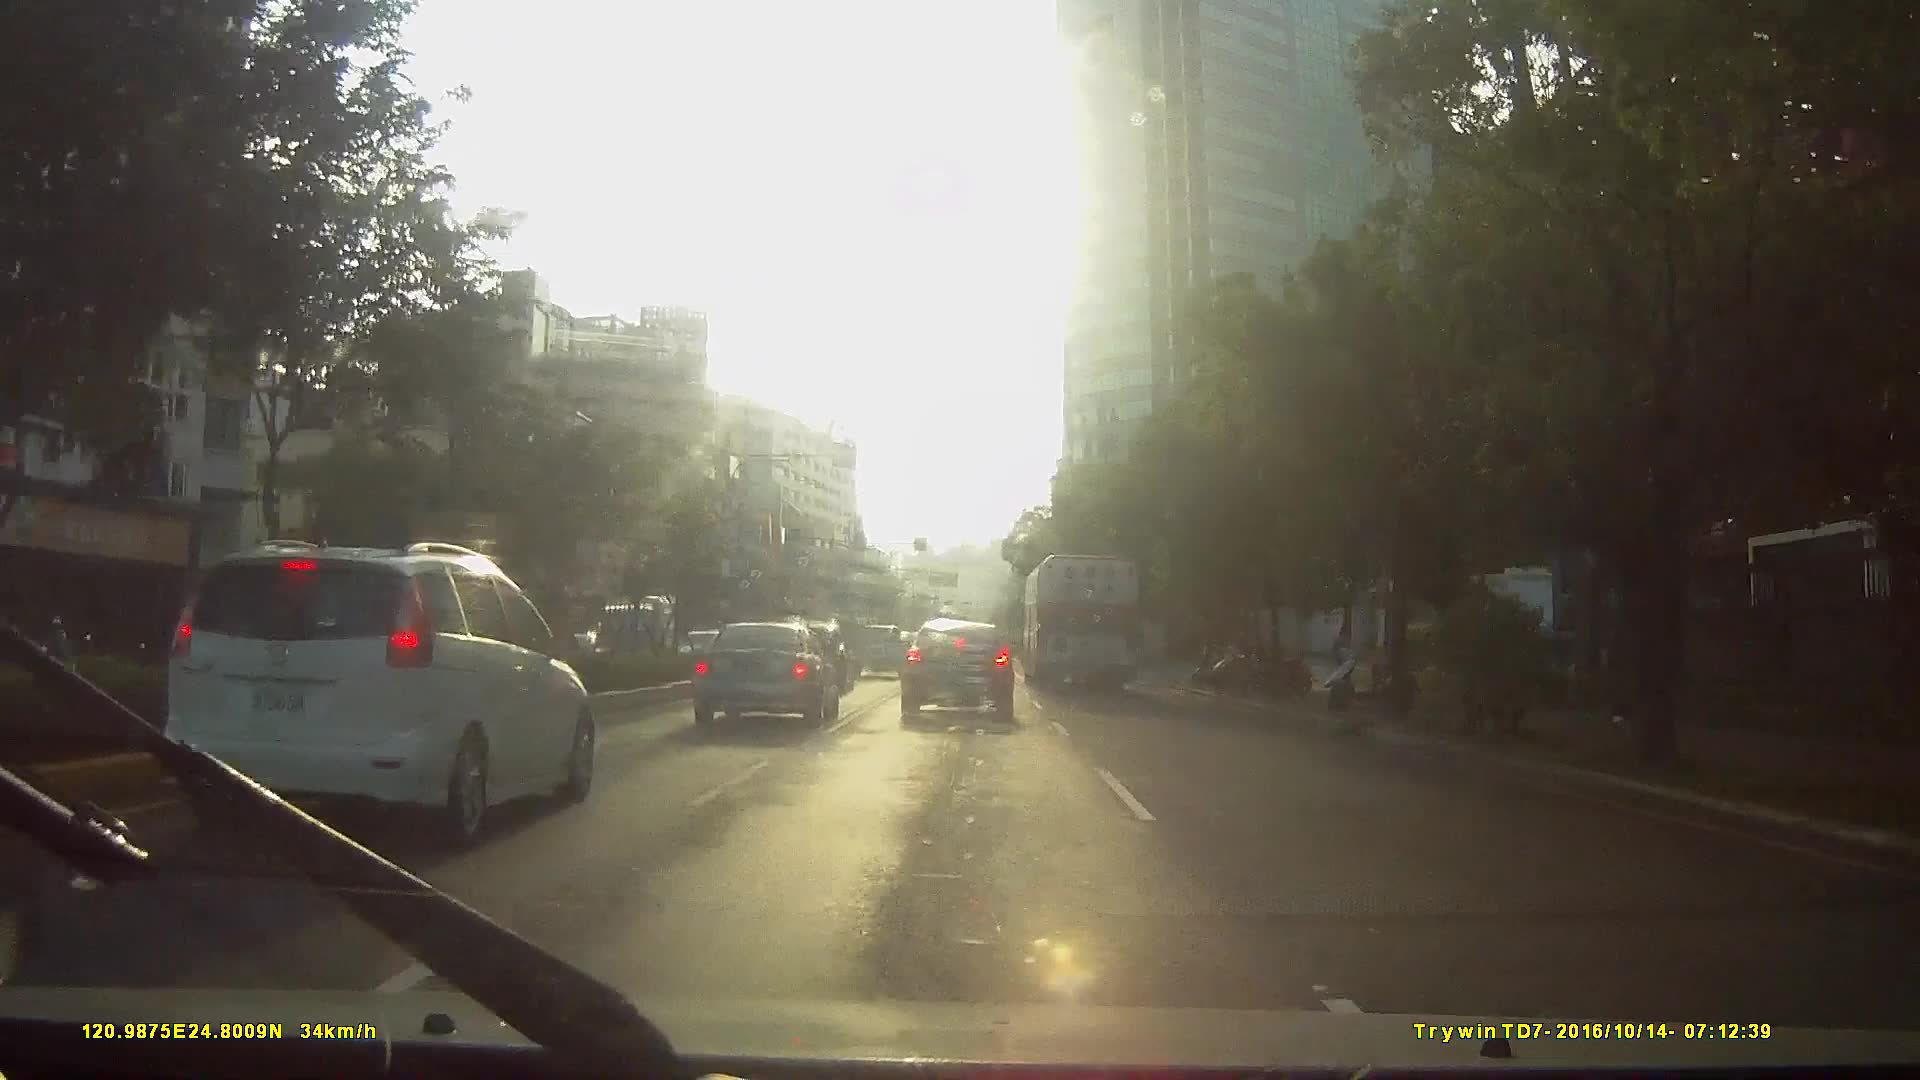vehicle: (138, 531, 603, 856), (251, 556, 684, 868), (1019, 542, 1142, 691), (680, 618, 837, 731), (897, 615, 1017, 727), (579, 589, 669, 669), (847, 620, 906, 676)
